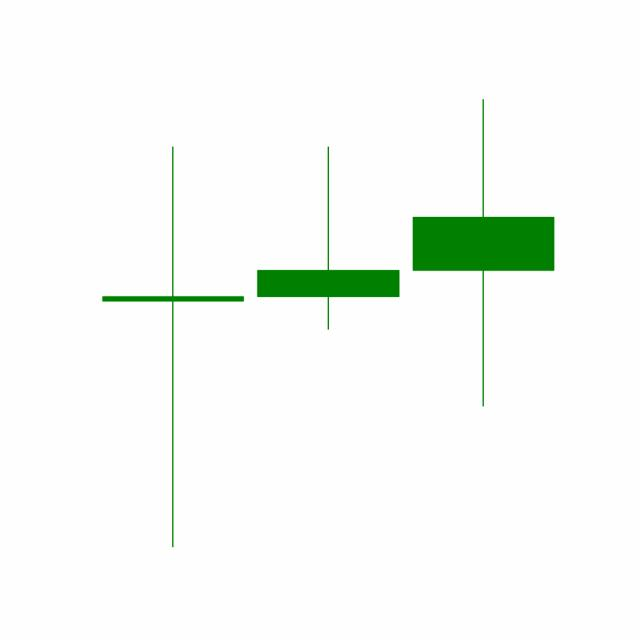Gravestone Doji: (249, 144, 406, 332)
